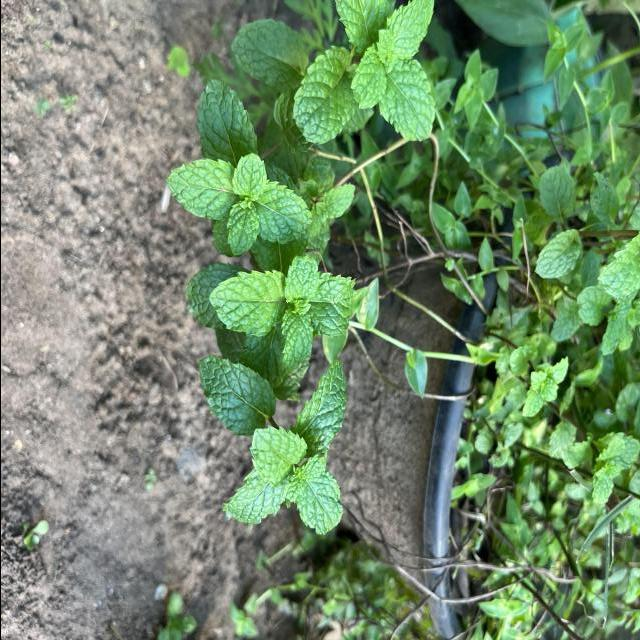Mentha spicata: (197, 354, 276, 438), (291, 44, 356, 144), (290, 359, 346, 458), (206, 270, 282, 338), (378, 59, 435, 142), (164, 156, 232, 222), (257, 178, 312, 246), (248, 424, 308, 485), (295, 468, 343, 536), (348, 42, 386, 111), (226, 198, 258, 257), (282, 254, 318, 304), (230, 152, 266, 202)
